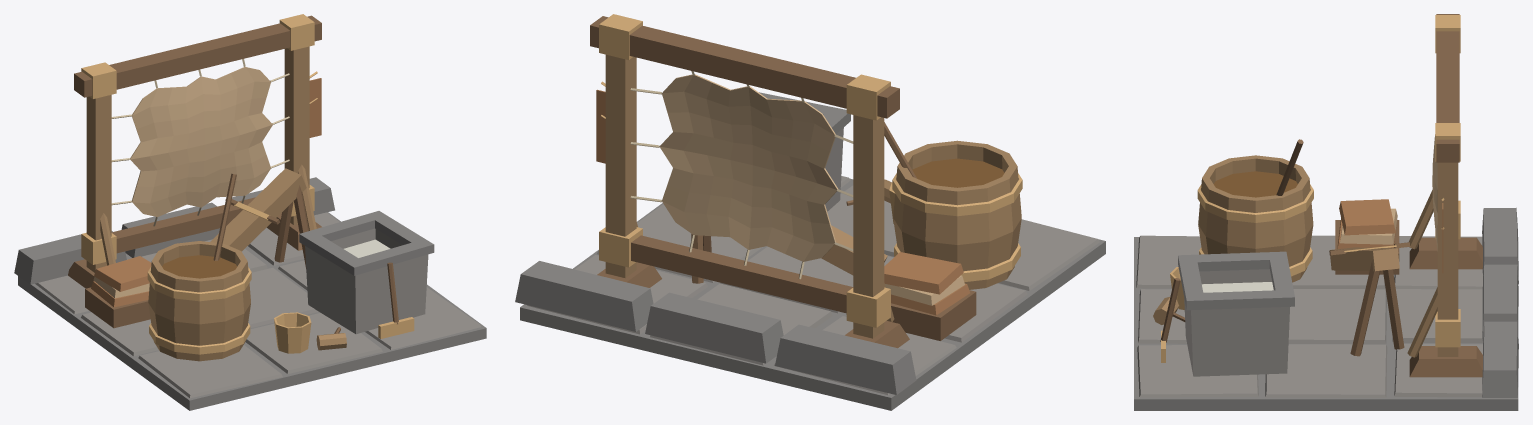
File: tanner.glb
3 views of the same model, side by side, from view 1: azimuth 30°, elevation 25°; view 2: azimuth 150°, elevation 25°; view 3: azimuth 270°, elevation 25° (orthographic). The views are drawn at different scales.
Visible parts, largest first — view 1: hide_stretched, vat_oak, vat_stone, floor_base, frame_beam_top, vat_stone_rim, flagstone_00, frame_post_l, flagstone_10, frame_post_r, fleshing_beam, frame_beam_bottom (+28 smaller); view 2: hide_stretched, vat_oak, floor_base, frame_beam_top, kerb_0, frame_beam_bottom, kerb_1, kerb_2, frame_post_l, frame_post_r, flagstone_00, flagstone_12 (+21 smaller); view 3: vat_oak, vat_stone, floor_base, flagstone_21, flagstone_11, vat_stone_rim, flagstone_20, frame_post_r, flagstone_12, frame_beam_top, kerb_2, flagstone_00 (+24 smaller).
Part boxes in pixels (left/top/right/bottom): hide_stretched: left=130, top=67, right=272, bottom=216; vat_oak: left=147, top=241, right=251, bottom=361; vat_stone: left=305, top=228, right=428, bottom=334; floor_base: left=18, top=212, right=486, bottom=410; frame_beam_top: left=74, top=15, right=321, bottom=97; vat_stone_rim: left=299, top=211, right=434, bottom=275; flagstone_00: left=138, top=345, right=282, bottom=398; frame_post_l: left=86, top=95, right=111, bottom=272; flagstone_10: left=245, top=313, right=382, bottom=373; frame_post_r: left=284, top=46, right=309, bottom=225; fleshing_beam: left=210, top=168, right=306, bottom=251; frame_beam_bottom: left=111, top=197, right=281, bottom=253; hide_stretched: left=659, top=74, right=837, bottom=261; vat_oak: left=892, top=140, right=1022, bottom=289; floor_base: left=520, top=178, right=1105, bottom=410; frame_beam_top: left=590, top=16, right=899, bottom=118; kerb_0: left=775, top=324, right=916, bottom=394; frame_beam_bottom: left=631, top=235, right=853, bottom=313; kerb_1: left=645, top=292, right=783, bottom=363; kerb_2: left=515, top=261, right=653, bottom=331; frame_post_l: left=853, top=115, right=884, bottom=338; frame_post_r: left=605, top=54, right=636, bottom=278; flagstone_00: left=999, top=219, right=1099, bottom=290; flagstone_12: left=650, top=283, right=832, bottom=365; vat_oak: left=1197, top=155, right=1313, bottom=282; vat_stone: left=1184, top=269, right=1289, bottom=376; floor_base: left=1134, top=237, right=1518, bottom=410; flagstone_21: left=1265, top=344, right=1387, bottom=397; flagstone_11: left=1288, top=289, right=1386, bottom=344; vat_stone_rim: left=1178, top=251, right=1294, bottom=310; flagstone_20: left=1137, top=345, right=1258, bottom=397; frame_post_r: left=1437, top=162, right=1458, bottom=356; flagstone_12: left=1392, top=289, right=1483, bottom=343; frame_beam_top: left=1436, top=14, right=1459, bottom=162; kerb_2: left=1482, top=321, right=1518, bottom=397; flagstone_00: left=1136, top=235, right=1201, bottom=288.
Size of what is drawn, in the model's own units: 3.08 by 2.19 by 3.
